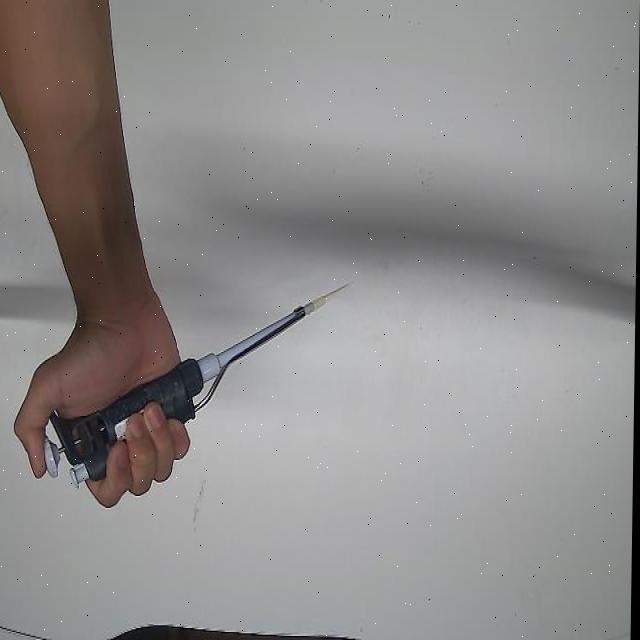Single Channel Pipettor: (32, 292, 329, 490)
